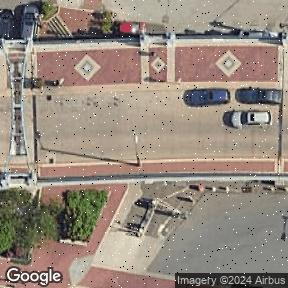vegetation: (0, 189, 108, 265), (90, 10, 113, 36), (40, 1, 58, 23)
